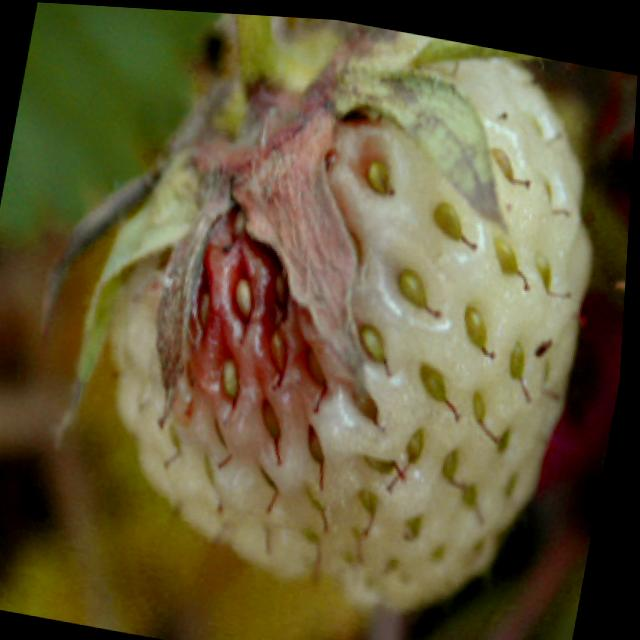Anthracnose Fruit Rot: (153, 120, 371, 474)
